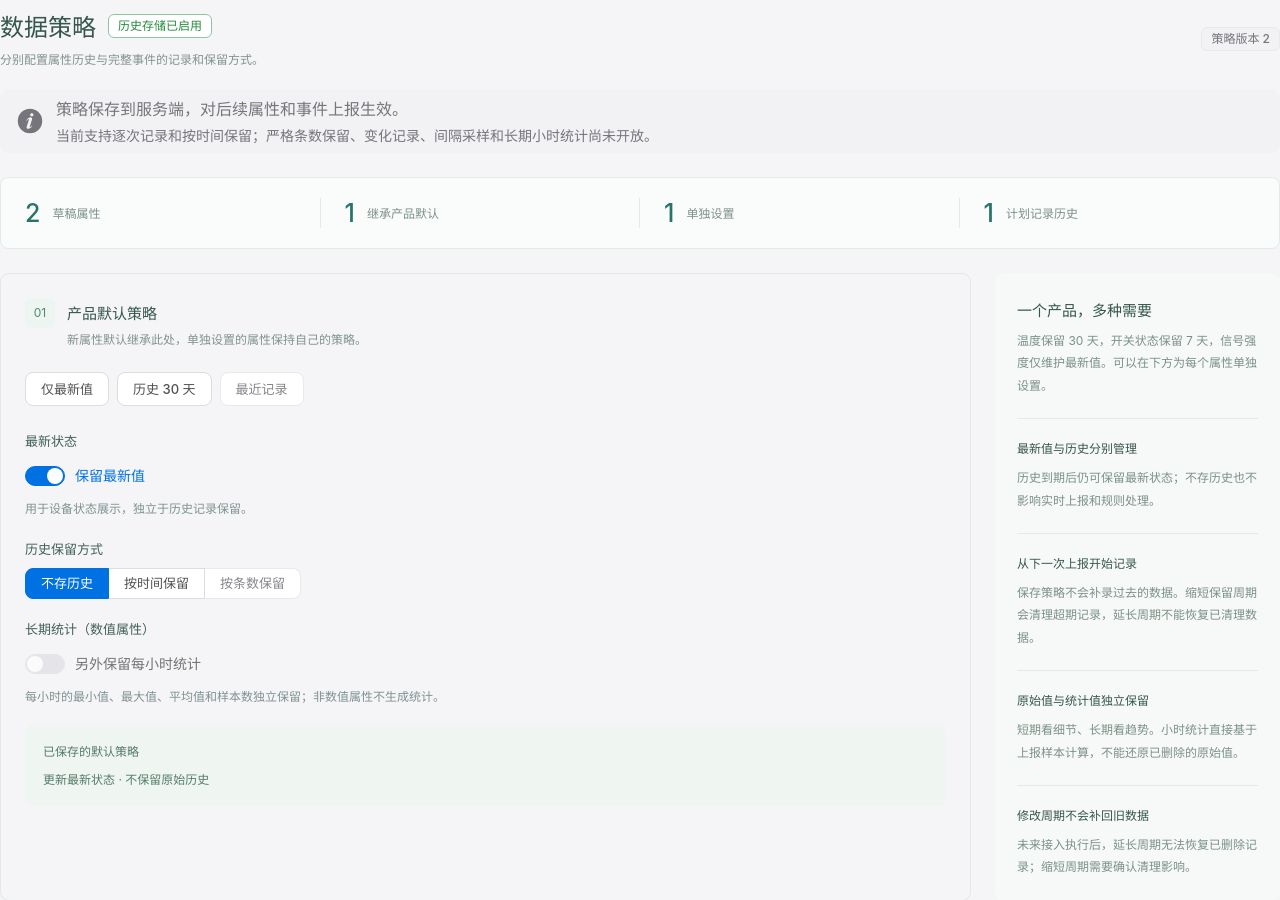
preserves overrides while defaults change and restores the server policy on undo
Click the button "历史 30 天".
click(164, 389)  # box top-left (117, 372), bottom-right (212, 406)
(page scrolled)
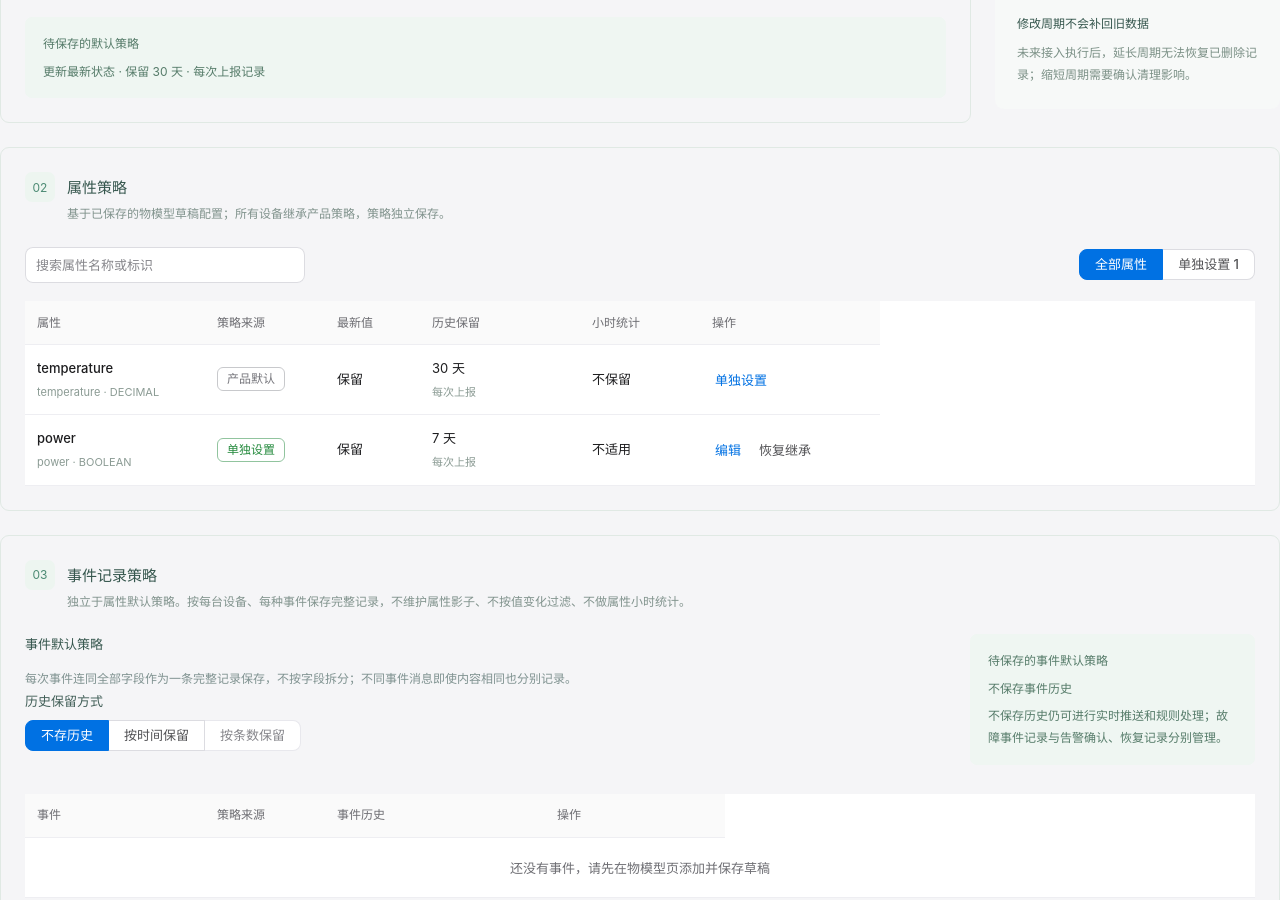
Expected: the element that starts with "策略来源" shows "7 天", top-left (432, 430), bottom-right (456, 446)
Click the button "恢复继承".
click(785, 451)  # box top-left (756, 441), bottom-right (814, 460)
(page scrolled)
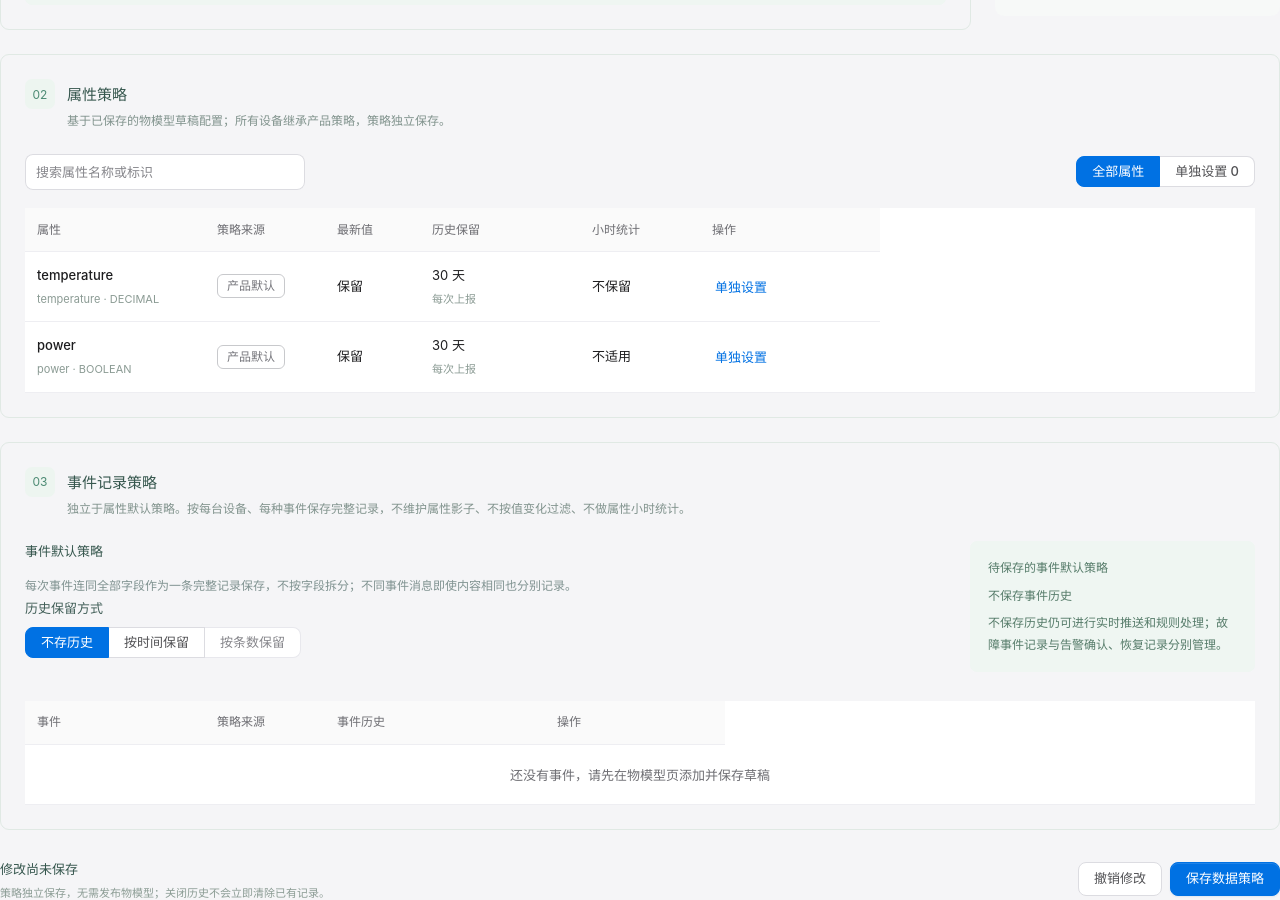
Click the button "撤销修改".
click(1120, 878)  # box top-left (1078, 862), bottom-right (1162, 896)
(page scrolled)
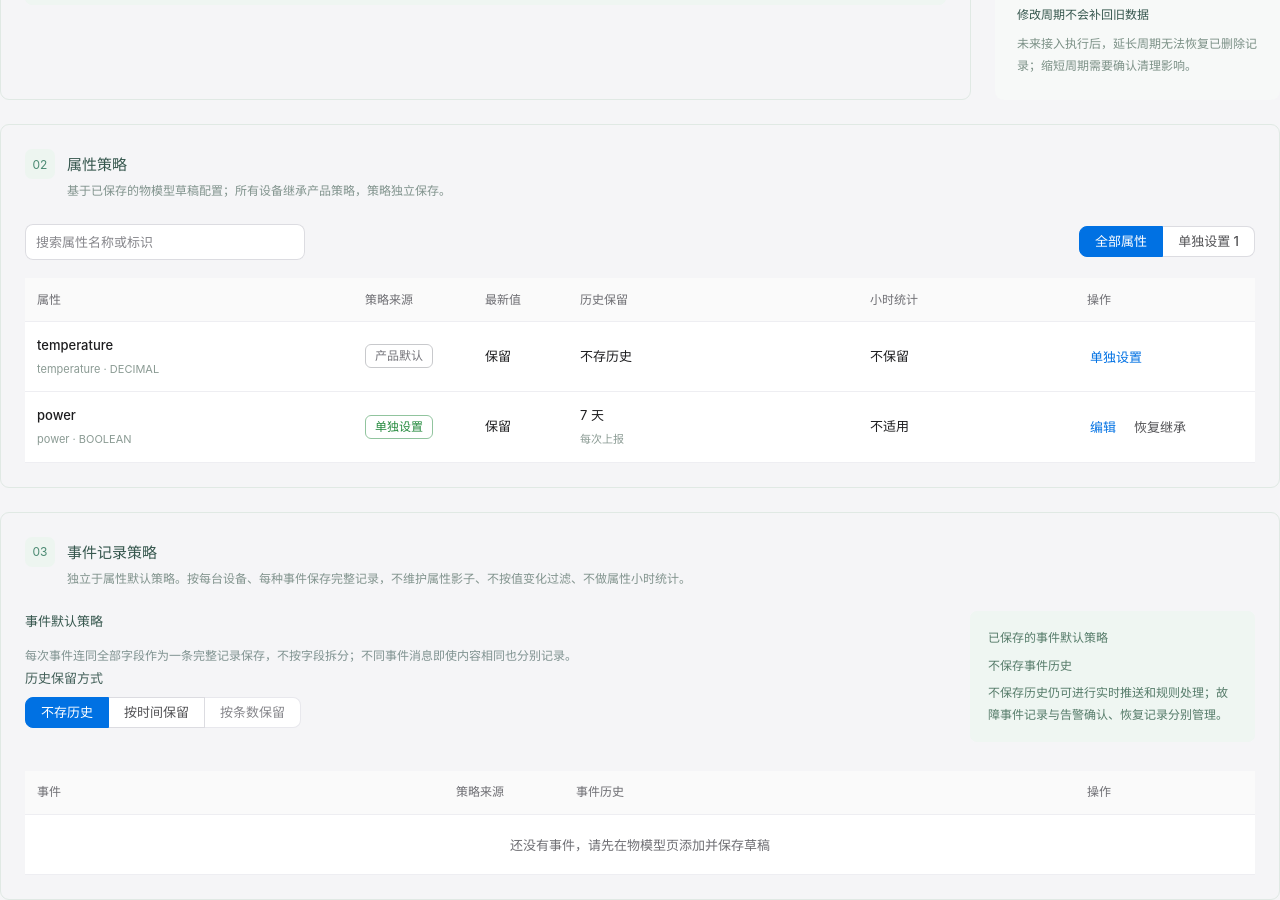
Expected: the element that starts with "策略来源" shows "7 天", top-left (580, 407), bottom-right (604, 423)
